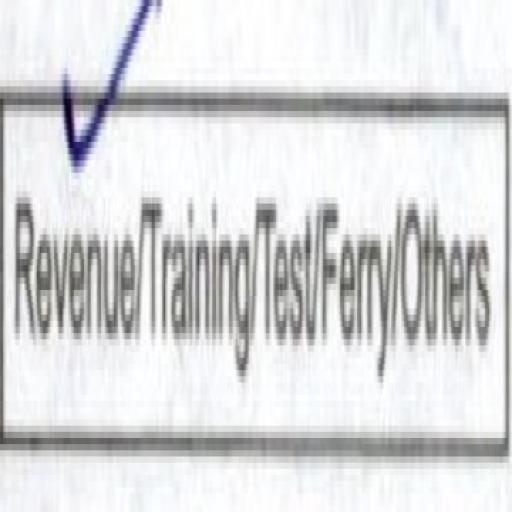check: (7, 0, 137, 463)
